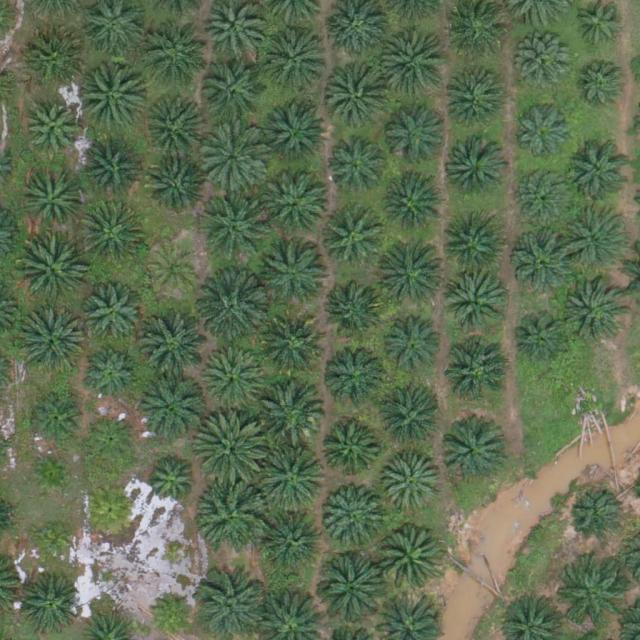Healthy: (255, 377, 326, 448), (197, 195, 268, 266), (16, 306, 87, 377), (73, 60, 143, 131), (198, 122, 268, 193), (261, 24, 331, 95), (380, 26, 450, 97), (375, 524, 445, 595), (315, 554, 385, 625), (257, 441, 327, 512), (196, 411, 266, 482), (199, 480, 270, 550), (557, 202, 627, 273), (197, 273, 268, 343), (17, 236, 87, 307), (139, 314, 209, 385), (136, 372, 206, 443), (377, 239, 447, 309), (78, 200, 148, 270), (30, 27, 93, 90), (140, 94, 203, 157), (199, 62, 262, 125), (327, 71, 390, 134), (385, 104, 448, 167), (555, 565, 618, 628), (322, 486, 385, 549), (514, 228, 577, 291), (380, 314, 443, 377), (325, 342, 388, 405), (76, 137, 138, 200), (147, 31, 209, 94), (265, 99, 327, 162), (446, 73, 508, 136), (447, 140, 509, 203), (514, 102, 577, 164), (17, 574, 79, 637), (440, 423, 502, 486), (380, 392, 443, 454), (382, 453, 444, 516), (318, 419, 380, 482), (264, 510, 327, 572), (561, 280, 623, 343), (445, 340, 508, 402), (442, 271, 504, 334), (442, 216, 504, 279), (382, 174, 444, 237), (320, 205, 383, 267), (324, 277, 386, 340), (203, 349, 265, 412), (141, 154, 203, 217), (81, 283, 143, 346), (21, 169, 83, 232), (568, 142, 630, 204), (265, 173, 327, 235), (265, 246, 327, 308), (260, 317, 322, 379), (24, 102, 79, 157), (571, 59, 626, 114), (329, 139, 384, 194), (518, 40, 573, 95), (84, 412, 139, 467), (569, 488, 624, 543), (143, 454, 198, 509), (518, 169, 573, 224), (515, 310, 569, 365), (85, 347, 139, 402), (28, 393, 82, 448)
Small: (28, 450, 75, 498), (148, 590, 195, 637), (31, 518, 78, 565)
Yellow: (84, 482, 139, 538), (147, 244, 202, 299)
